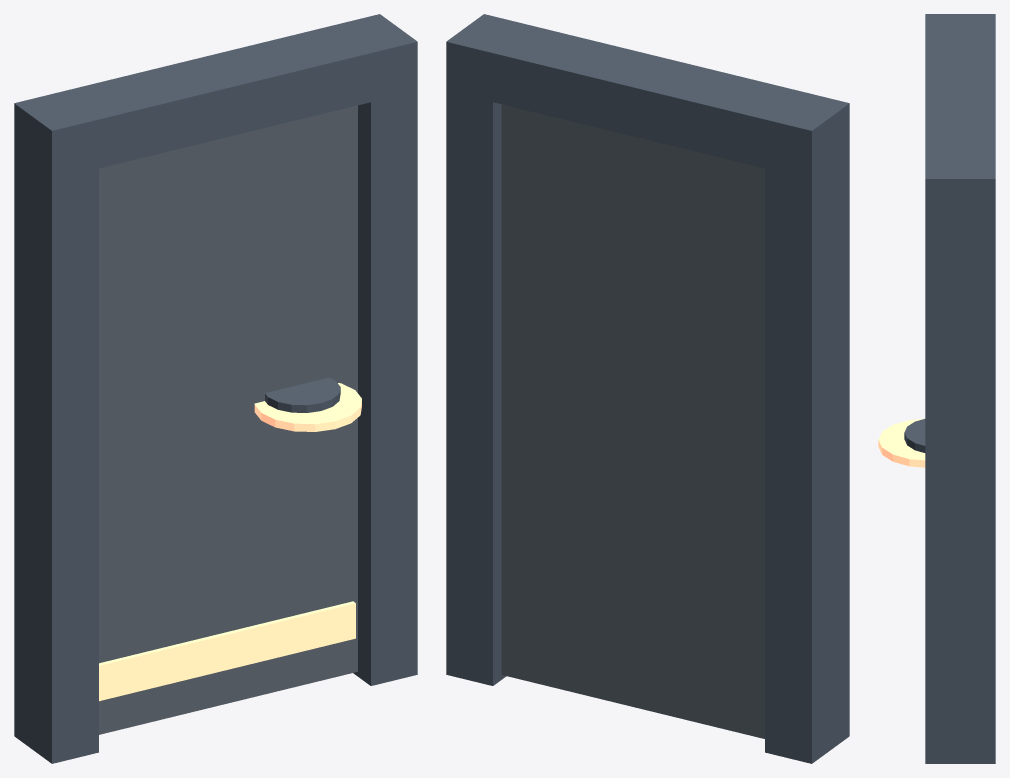
Rendered from Lab_Door_Maintenance.fbx.
3 views of the same model, side by side, from view 1: azimuth 30°, elevation 25°; view 2: azimuth 150°, elevation 25°; view 3: azimuth 270°, elevation 25° (orthographic). The views are drawn at different scales.
Parts seen in each view (by area): view 1: Lab_Door_Maintenance; view 2: Lab_Door_Maintenance; view 3: Lab_Door_Maintenance.
Part boxes in pixels (x1,y1,x2,y2): Lab_Door_Maintenance: [14, 14, 417, 763]; Lab_Door_Maintenance: [446, 14, 849, 763]; Lab_Door_Maintenance: [878, 14, 995, 763].
Bounding box in the file's own units: 1.95 × 3.22 × 0.585.
